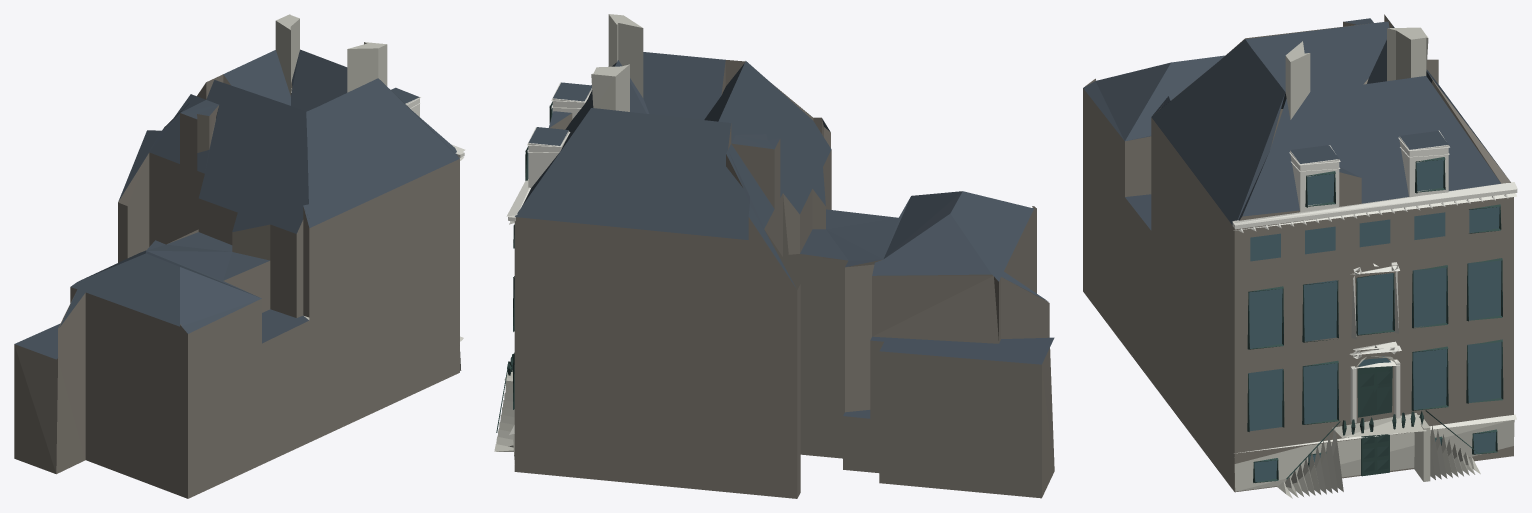
The model's file is collectie-six.lod1.glb.
3 views of the same model, side by side, from view 1: azimuth 30°, elevation 25°; view 2: azimuth 150°, elevation 25°; view 3: azimuth 270°, elevation 25° (orthographic). The views are drawn at different scales.
Parts seen in each view (by area): view 1: collectie-six; view 2: collectie-six; view 3: collectie-six.
Boxes of the visible parts, <box> form: collectie-six: <box>14,14,465,498</box>; collectie-six: <box>494,14,1054,498</box>; collectie-six: <box>1083,14,1517,498</box>.
Size of the model in its own units: 31.51 by 22.44 by 22.11.
